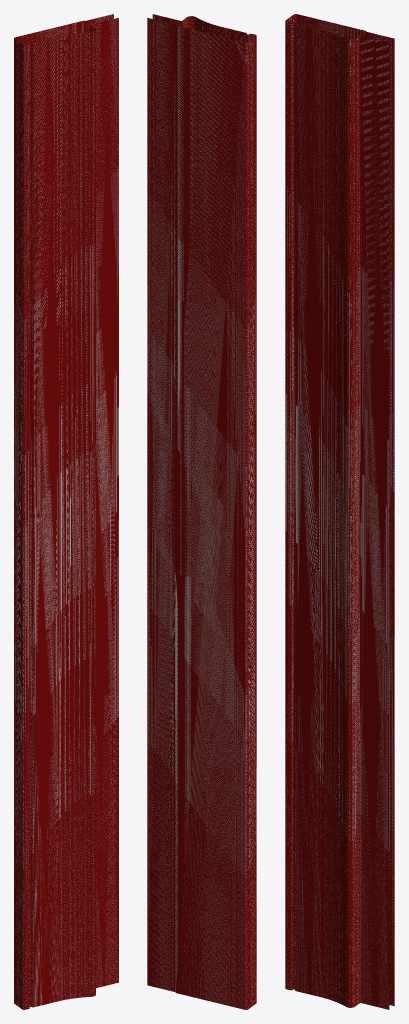
Rendered from original-44.obj.
The picture shows the model from 3 angles, left to right: view 1: azimuth 30°, elevation 25°; view 2: azimuth 150°, elevation 25°; view 3: azimuth 330°, elevation 25°; orthographic projection.
Visible parts, largest first — view 1: TB_11_BC2/TB_11_BC/mesh21/mesh21-geometry#mesh21-geometry; view 2: TB_11_BC2/TB_11_BC/mesh21/mesh21-geometry#mesh21-geometry; view 3: TB_11_BC2/TB_11_BC/mesh21/mesh21-geometry#mesh21-geometry.
Boxes of the visible parts, left/top/right/bottom form: TB_11_BC2/TB_11_BC/mesh21/mesh21-geometry#mesh21-geometry: left=14, top=14, right=118, bottom=1009; TB_11_BC2/TB_11_BC/mesh21/mesh21-geometry#mesh21-geometry: left=147, top=14, right=256, bottom=1009; TB_11_BC2/TB_11_BC/mesh21/mesh21-geometry#mesh21-geometry: left=285, top=14, right=394, bottom=1009.
Size of the model in its own units: 0.1357 by 1.25 by 0.0323.
